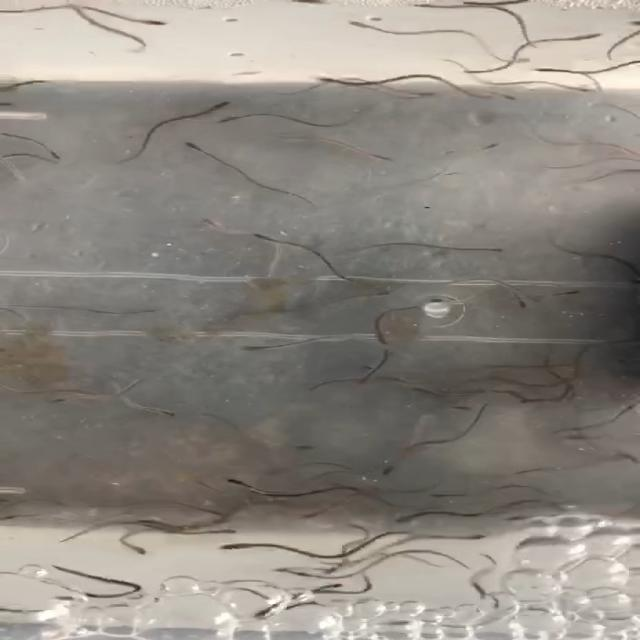active_glass_eel: (120, 14, 173, 31), (203, 95, 245, 114), (340, 15, 389, 31), (242, 340, 294, 355), (124, 536, 156, 559), (212, 538, 263, 552), (248, 230, 286, 248), (409, 0, 462, 12), (471, 137, 500, 158), (201, 215, 233, 234), (356, 148, 392, 164), (246, 601, 276, 620), (209, 114, 249, 128), (284, 440, 324, 454), (51, 592, 106, 602), (495, 90, 530, 105), (574, 29, 611, 43), (224, 475, 254, 492), (460, 527, 494, 542), (312, 75, 351, 88), (550, 83, 594, 94), (467, 245, 507, 257), (380, 459, 406, 477), (42, 148, 73, 163), (49, 392, 82, 406), (300, 507, 335, 520), (181, 141, 209, 157), (406, 90, 439, 102), (358, 290, 394, 301), (321, 561, 347, 576), (150, 405, 182, 417), (426, 490, 464, 500), (558, 288, 592, 299), (206, 525, 237, 537), (398, 512, 432, 522), (537, 64, 564, 76), (353, 373, 373, 387), (516, 296, 534, 309), (0, 96, 14, 112)
